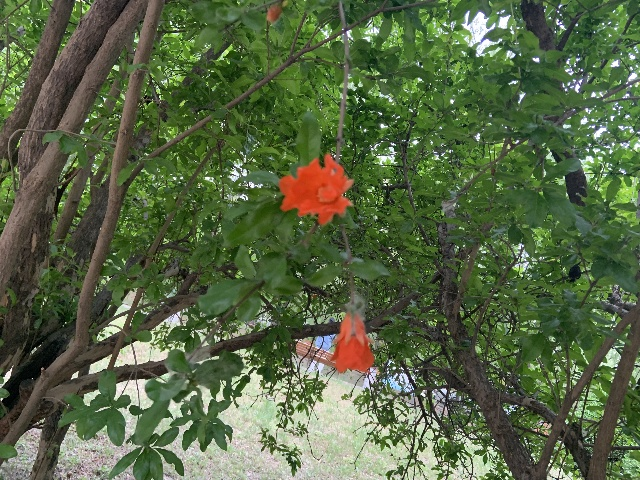bud: (266, 4, 280, 23)
flower: (278, 152, 354, 225), (331, 310, 374, 373)
